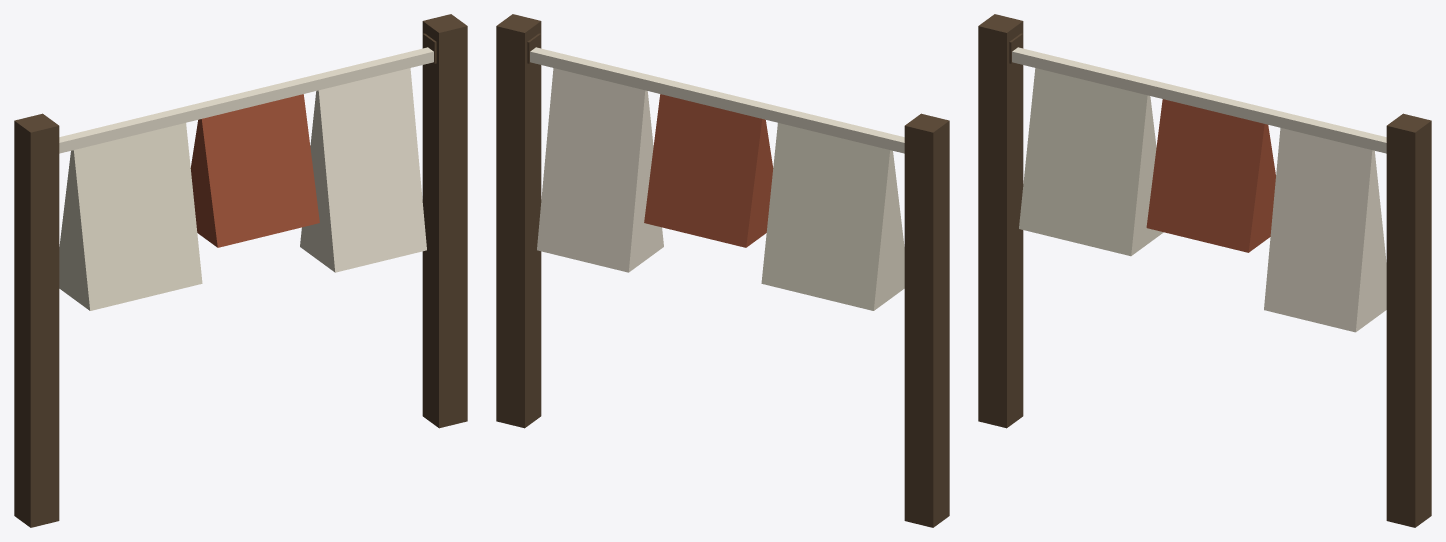
The model's file is prop-washing-line.glb.
3 views of the same model, side by side, from view 1: azimuth 30°, elevation 25°; view 2: azimuth 150°, elevation 25°; view 3: azimuth 330°, elevation 25° (orthographic).
Visible parts, largest first — view 1: prop-washing-line; view 2: prop-washing-line; view 3: prop-washing-line.
Boxes of the visible parts, x1,y1,x2,y2 form: prop-washing-line: (14, 14, 467, 527); prop-washing-line: (496, 14, 949, 527); prop-washing-line: (978, 14, 1431, 527).
Bounding box in the file's own units: 2.14 × 1.85 × 0.3.
Materials: 1 (1 with a texture image).
